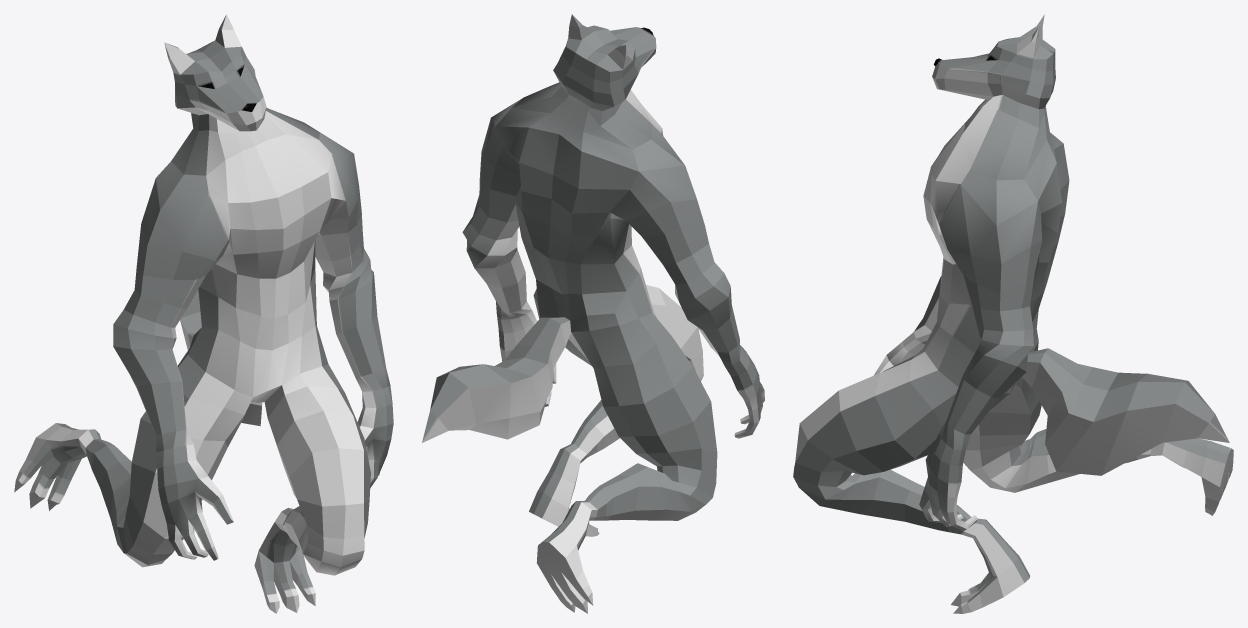
The model's file is WolfDead(25).obj.
3 renders of one model, left to right at view 1: azimuth 30°, elevation 25°; view 2: azimuth 150°, elevation 25°; view 3: azimuth 270°, elevation 25°, orthographic. The views are drawn at different scales.
Visible parts, largest first — view 1: Box001; view 2: Box001; view 3: Box001.
Part boxes in pixels (x1,y1,x2,y2): Box001: (14,14,393,613); Box001: (422,14,764,613); Box001: (793,14,1233,613).
Size of the model in its own units: 64.16 by 132 by 92.96.
